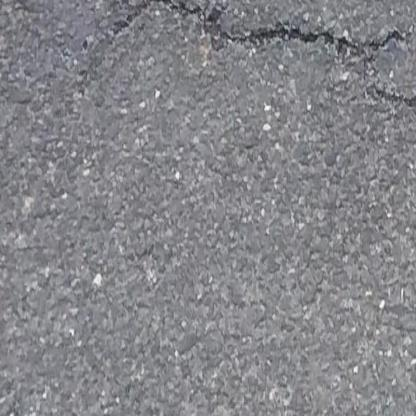Cracks: (92, 0, 416, 110)
